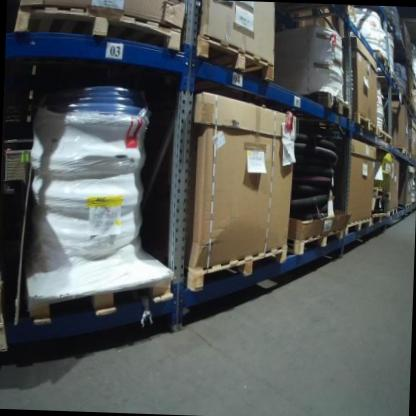pallet: (16, 267, 175, 330), (11, 4, 184, 55), (187, 240, 288, 295), (194, 33, 277, 84), (287, 225, 343, 257), (310, 93, 353, 121), (353, 111, 379, 137), (344, 217, 372, 238), (372, 51, 391, 74), (376, 128, 392, 146), (370, 212, 387, 227), (395, 147, 409, 157), (387, 206, 398, 217), (406, 202, 413, 209)
stillage: (5, 143, 36, 187)
